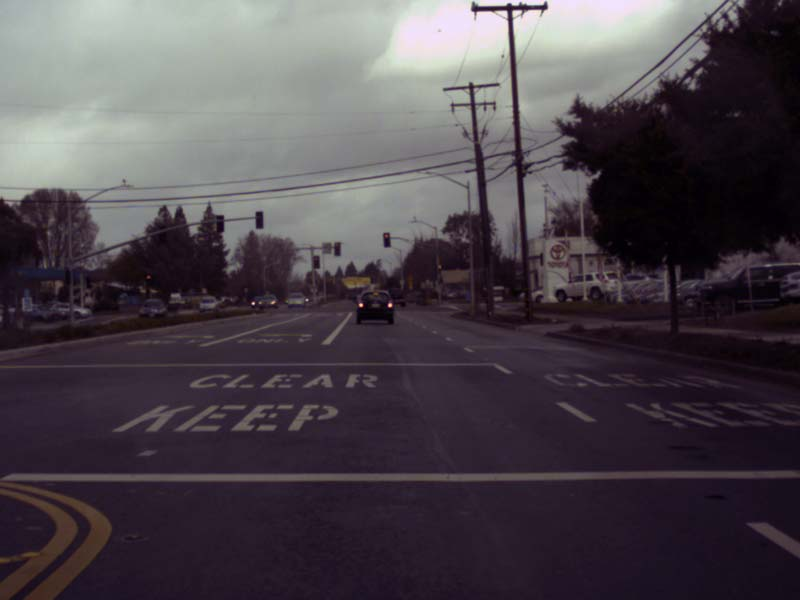Red: (334, 241, 341, 256), (382, 233, 390, 246), (313, 255, 319, 269), (146, 273, 151, 286), (438, 263, 441, 274)
